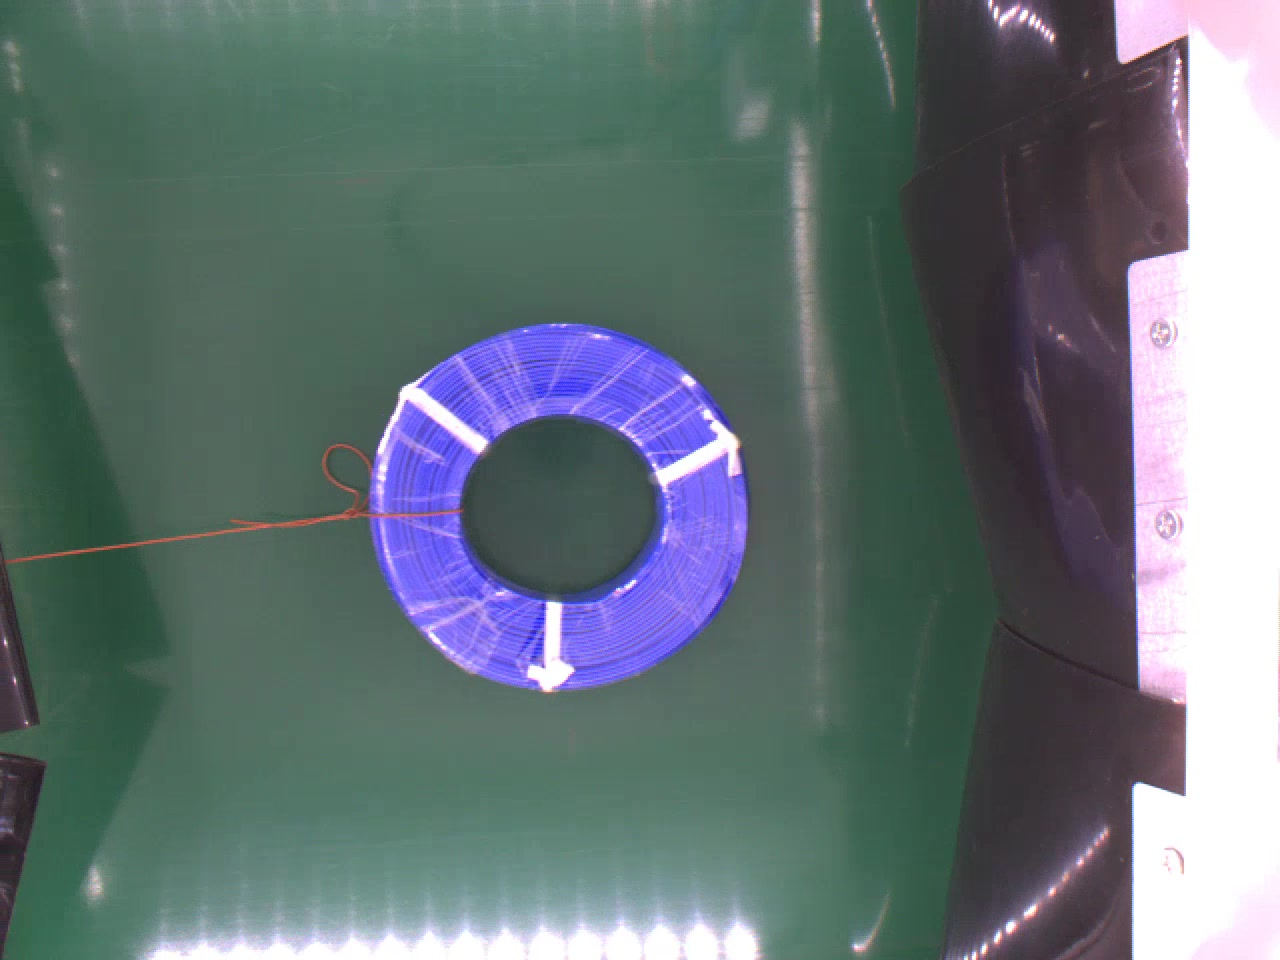blue: (362, 315, 757, 698)
